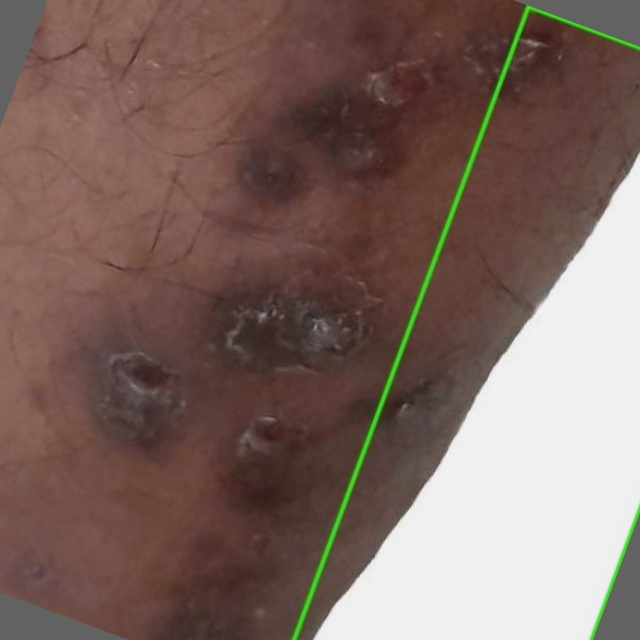Eczema: (294, 6, 639, 639)
